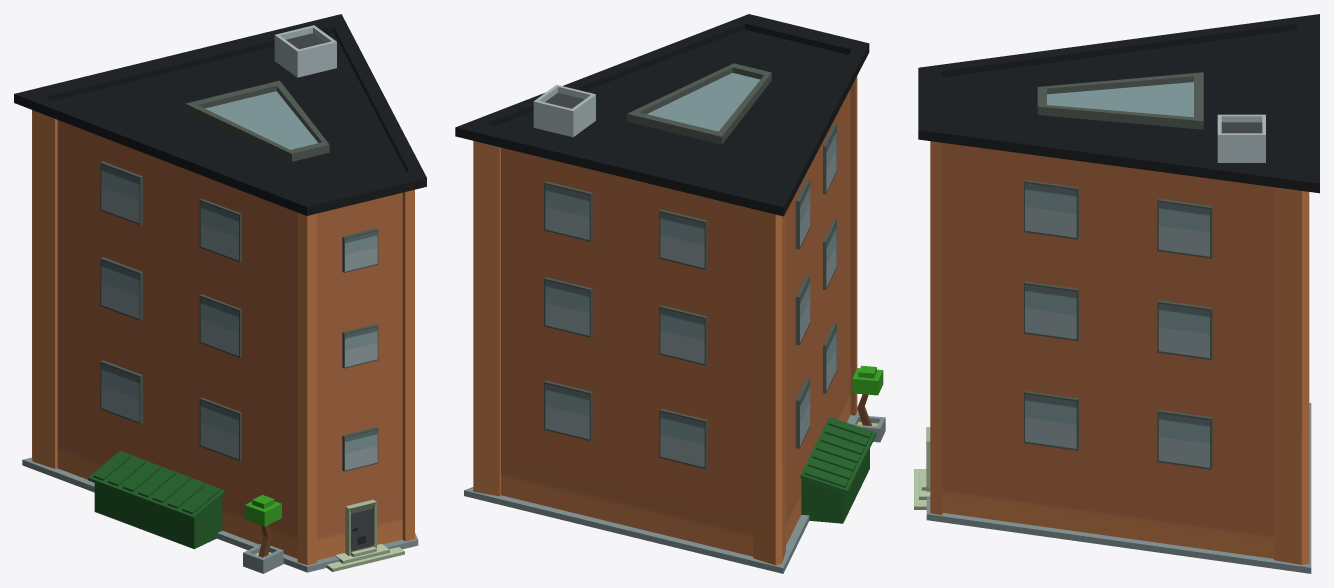
Rendered from building_1.glb.
3 renders of one model, left to right at view 1: azimuth 30°, elevation 25°; view 2: azimuth 150°, elevation 25°; view 3: azimuth 270°, elevation 25°, orthographic. The views are drawn at different scales.
Visible parts, largest first — view 1: Basic Triangular Low Orange; view 2: Basic Triangular Low Orange; view 3: Basic Triangular Low Orange.
Part boxes in pixels (x1=…): Basic Triangular Low Orange: x1=14, y1=14, x2=426, y2=573; Basic Triangular Low Orange: x1=455, y1=14, x2=885, y2=573; Basic Triangular Low Orange: x1=914, y1=14, x2=1319, y2=573.
Size of the model in its own units: 0.8558 by 0.9731 by 0.8646.
1 material, 1 textured.
